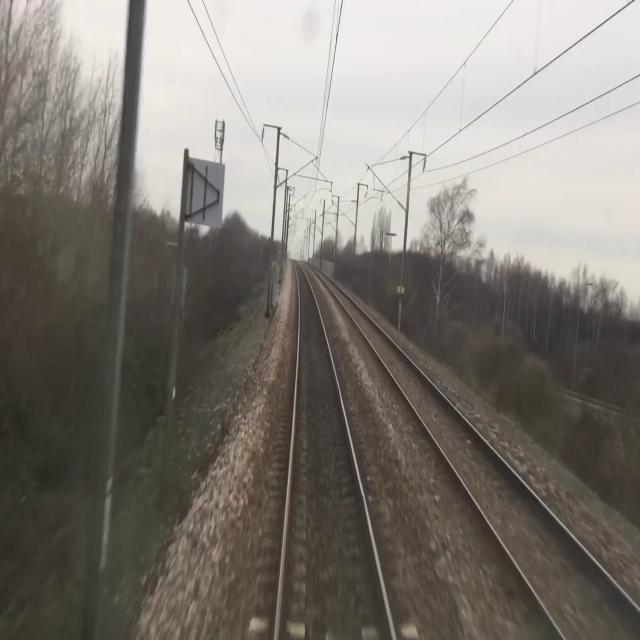rail-track: (311, 265, 640, 639), (278, 263, 392, 639)
